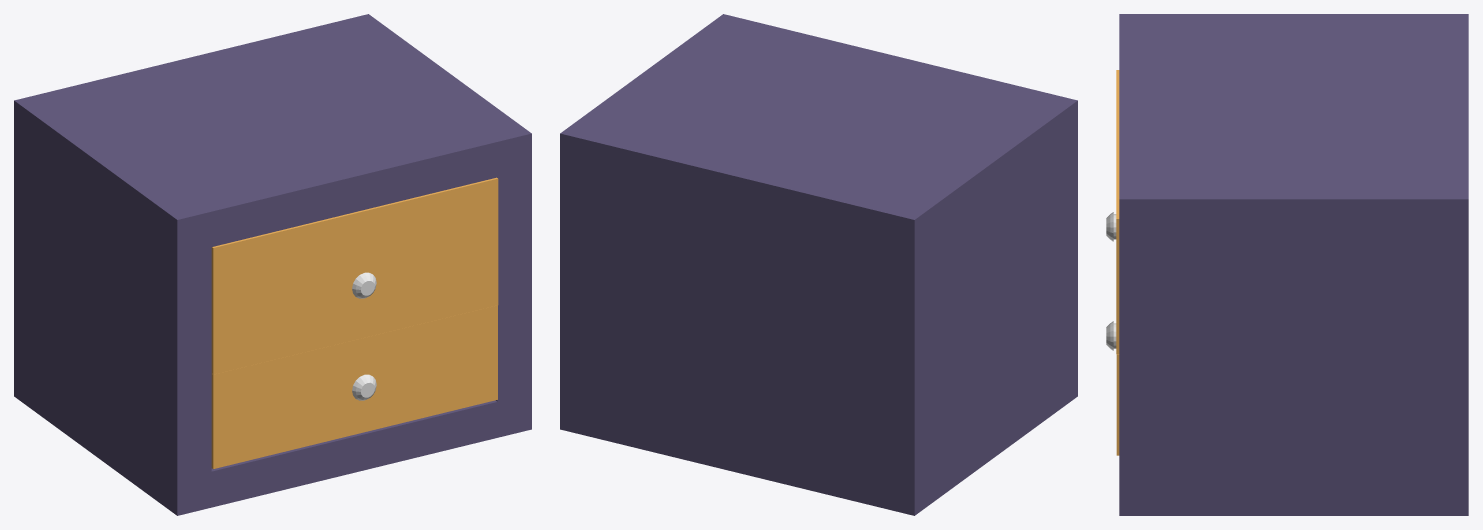
Rendered from Nightstand.fbx.
3 renders of one model, left to right at view 1: azimuth 30°, elevation 25°; view 2: azimuth 150°, elevation 25°; view 3: azimuth 270°, elevation 25°, orthographic. The views are drawn at different scales.
Visible parts, largest first — view 1: Cube, Cube.003, Cube.005, Cylinder; view 2: Cube; view 3: Cube, Cube.003, Cylinder.
Boxes of the visible parts, bbox=[...] form: Cube: bbox=[14, 14, 531, 515]; Cube.003: bbox=[211, 177, 498, 374]; Cube.005: bbox=[211, 305, 497, 468]; Cylinder: bbox=[352, 272, 376, 400]; Cube: bbox=[560, 14, 1077, 515]; Cube: bbox=[1119, 14, 1468, 515]; Cube.003: bbox=[1116, 70, 1119, 354]; Cylinder: bbox=[1106, 212, 1116, 350].
Bounding box in the file's own units: 98.67 × 78.72 × 81.63.
